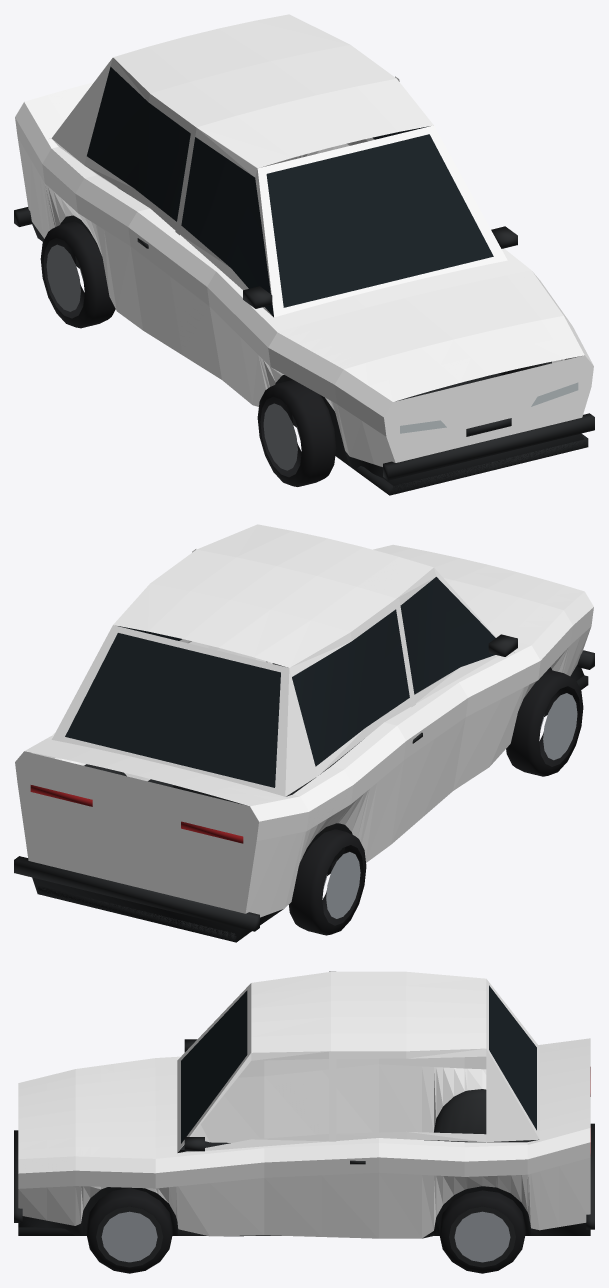
Rendered from sanga_garra.glb.
3 renders of one model, top to bottom at view 1: azimuth 30°, elevation 25°; view 2: azimuth 150°, elevation 25°; view 3: azimuth 270°, elevation 25°, orthographic. The views are drawn at different scales.
Visible parts, largest first — view 1: Body_Paint, Body_Details, Mount_FrontLeft_Wheel_Details, Mount_RearLeft_Wheel_Details; view 2: Body_Paint, Body_Details, Mount_RearLeft_Wheel_Details, Mount_FrontLeft_Wheel_Details; view 3: Body_Paint, Body_Details, Mount_FrontRight_Wheel_Details, Mount_RearRight_Wheel_Details.
Boxes of the visible parts, x1,y1,x2,y2 form: Body_Paint: [15, 14, 593, 466]; Body_Details: [14, 66, 594, 495]; Mount_FrontLeft_Wheel_Details: [257, 380, 336, 486]; Mount_RearLeft_Wheel_Details: [40, 221, 115, 328]; Body_Paint: [15, 524, 593, 917]; Body_Details: [14, 577, 594, 942]; Mount_RearLeft_Wheel_Details: [289, 829, 366, 935]; Mount_FrontLeft_Wheel_Details: [506, 669, 583, 776]; Body_Paint: [18, 971, 590, 1238]; Body_Details: [14, 985, 594, 1238]; Mount_FrontRight_Wheel_Details: [86, 1188, 172, 1273]; Mount_RearRight_Wheel_Details: [439, 1190, 525, 1273].
Bounding box in the file's own units: 1.67 × 1.49 × 3.7.
2 materials, 1 textured.
